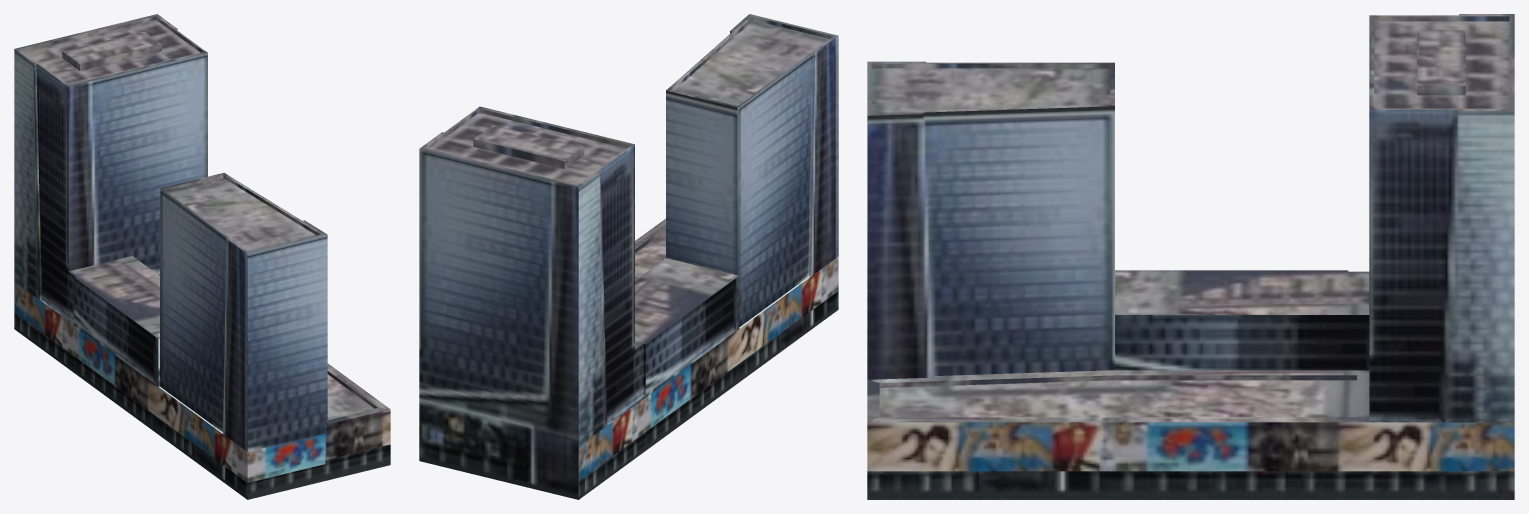
Rendered from time_square_excellence_15fb1d9a.glb.
3 views of the same model, side by side, from view 1: azimuth 30°, elevation 25°; view 2: azimuth 150°, elevation 25°; view 3: azimuth 270°, elevation 25° (orthographic). The views are drawn at different scales.
Visible parts, largest first — view 1: time_square_excellence_15fb1d9a; view 2: time_square_excellence_15fb1d9a; view 3: time_square_excellence_15fb1d9a.
Boxes of the visible parts, left/top/right/bottom form: time_square_excellence_15fb1d9a: left=14, top=14, right=390, bottom=499; time_square_excellence_15fb1d9a: left=419, top=14, right=838, bottom=499; time_square_excellence_15fb1d9a: left=867, top=14, right=1514, bottom=499.
Bounding box in the file's own units: 56.8 × 108 × 161.
1 material, 1 textured.
